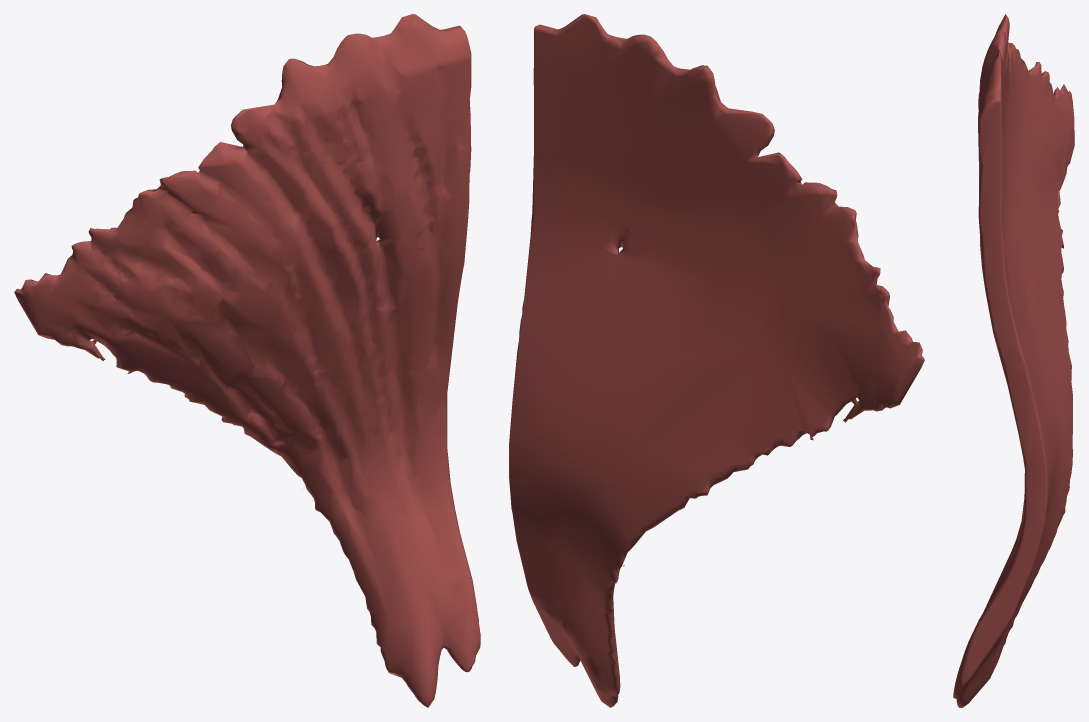
Rendered from FMA55610.glb.
3 views of the same model, side by side, from view 1: azimuth 30°, elevation 25°; view 2: azimuth 150°, elevation 25°; view 3: azimuth 270°, elevation 25° (orthographic). The views are drawn at different scales.
Parts seen in each view (by area): view 1: FMA55610; view 2: FMA55610; view 3: FMA55610.
Boxes of the visible parts, x1,y1,x2,y2 form: FMA55610: [14, 14, 480, 707]; FMA55610: [509, 14, 924, 707]; FMA55610: [953, 14, 1074, 707].
Bounding box in the file's own units: 0.0225 × 0.0354 × 0.00593.
